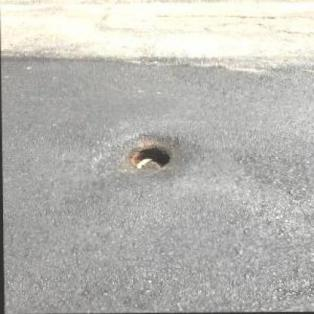Hueco: (127, 145, 176, 172)
